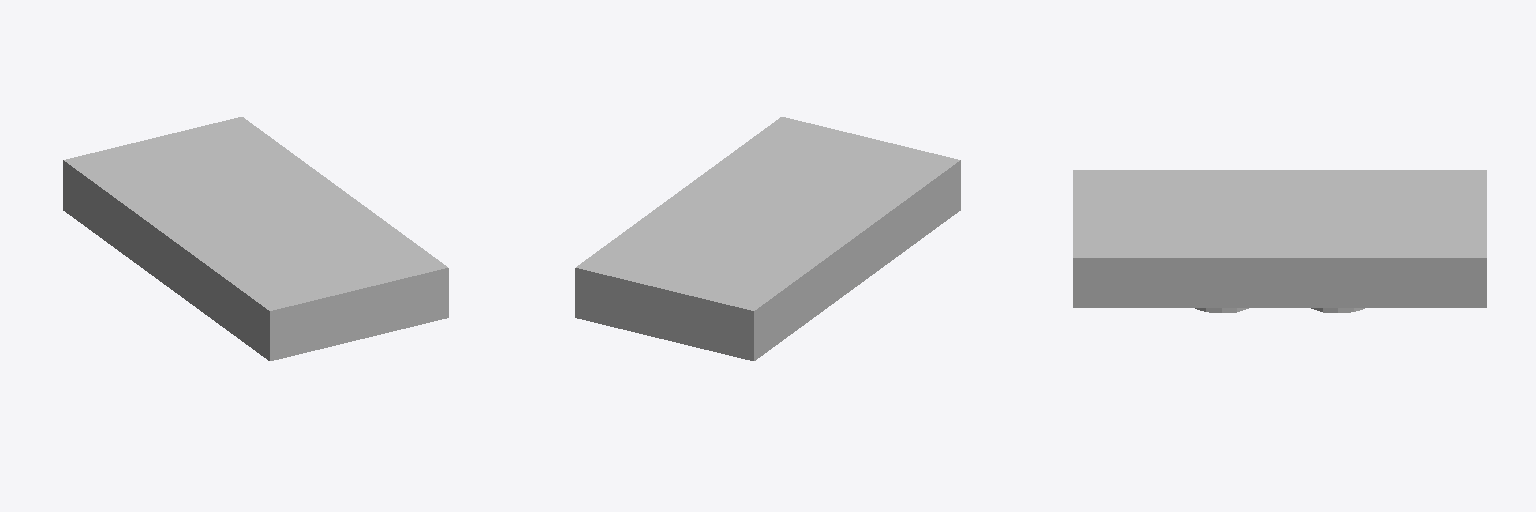
The model's file is Moving-Platform.obj.
3 renders of one model, left to right at view 1: azimuth 30°, elevation 25°; view 2: azimuth 150°, elevation 25°; view 3: azimuth 270°, elevation 25°, orthographic.
Parts seen in each view (by area): view 1: Cube_Cube.002; view 2: Cube_Cube.002; view 3: Cube_Cube.002.
Part boxes in pixels (bbox=[...]): Cube_Cube.002: bbox=[63, 117, 448, 360]; Cube_Cube.002: bbox=[575, 117, 960, 360]; Cube_Cube.002: bbox=[1073, 170, 1486, 312].
Size of the model in its own units: 2 by 0.9 by 4.